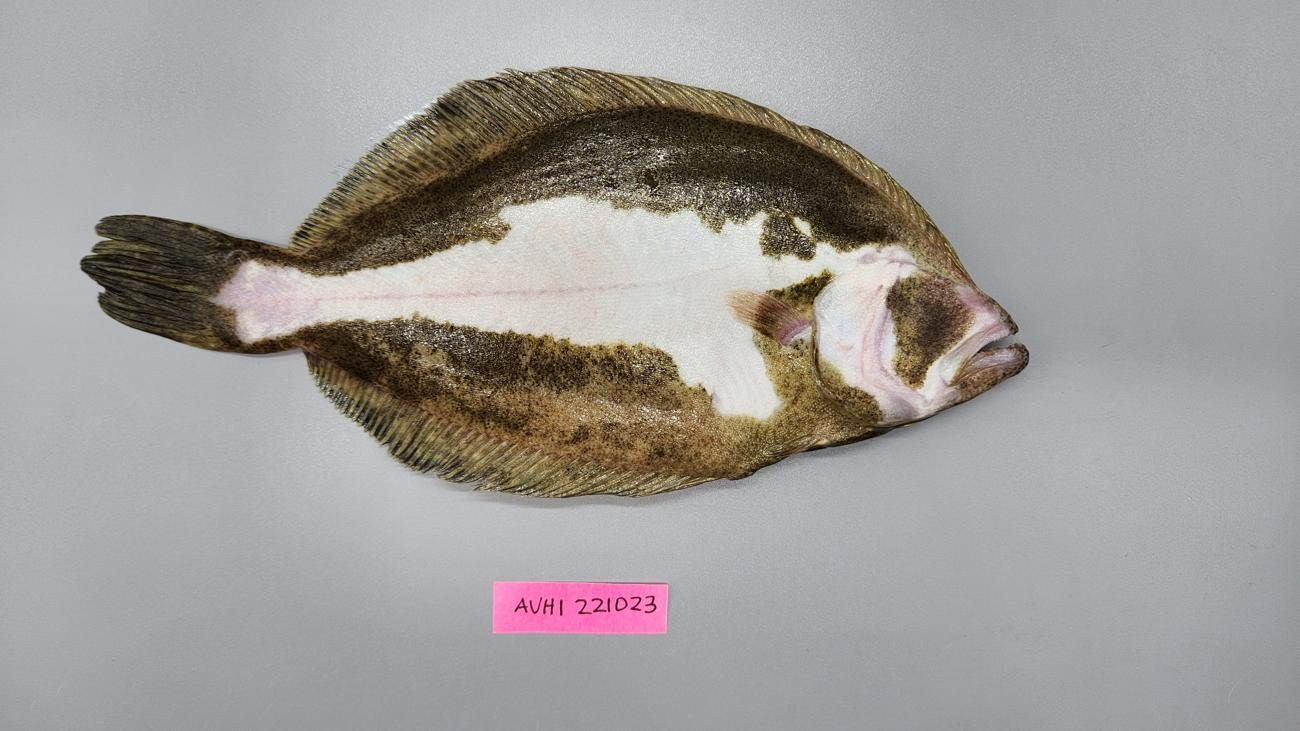VIDYH: (342, 216, 638, 325), (727, 283, 813, 351)
VIFDH: (405, 122, 517, 184), (788, 125, 828, 151)
VIOUY: (77, 69, 1031, 497)
